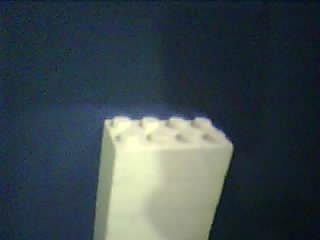lego: (93, 114, 234, 240)
